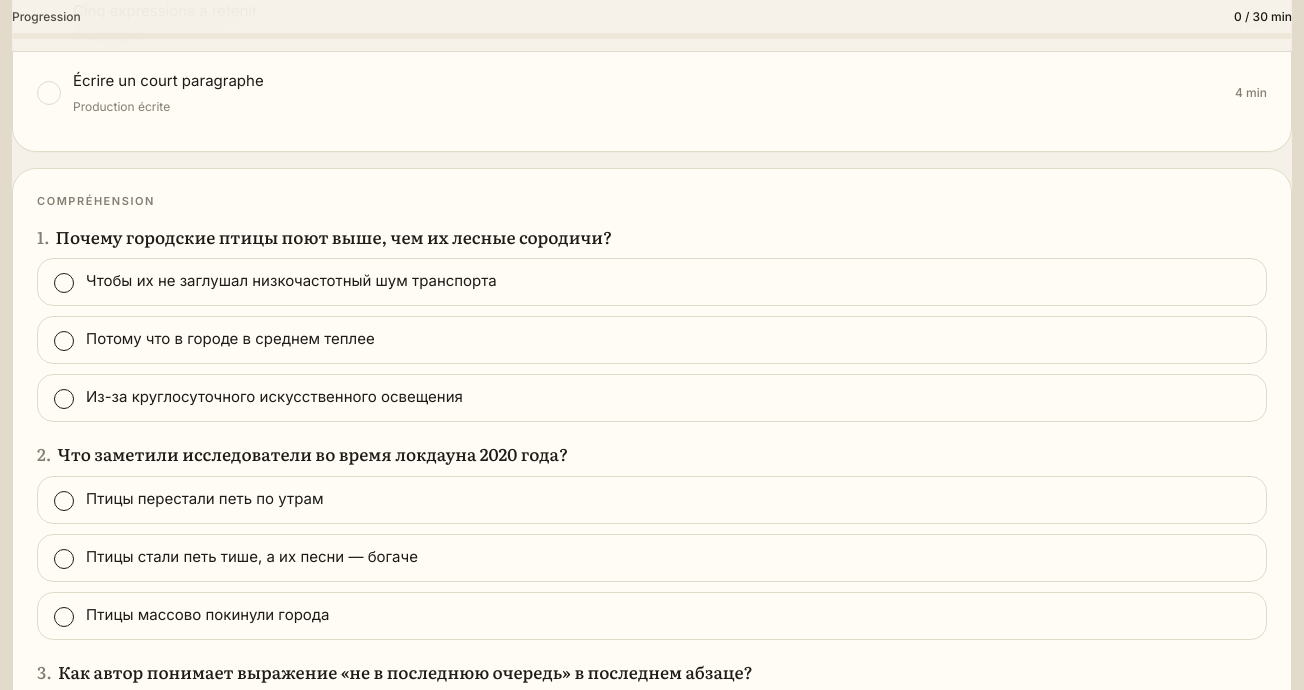
Test: MissionView › gives feedback and a score on the quiz
(page scrolled)
Click the button "Потому что в городе в среднем теплее".
click(230, 339)  # box x1=37 y1=316 x2=1267 y2=364
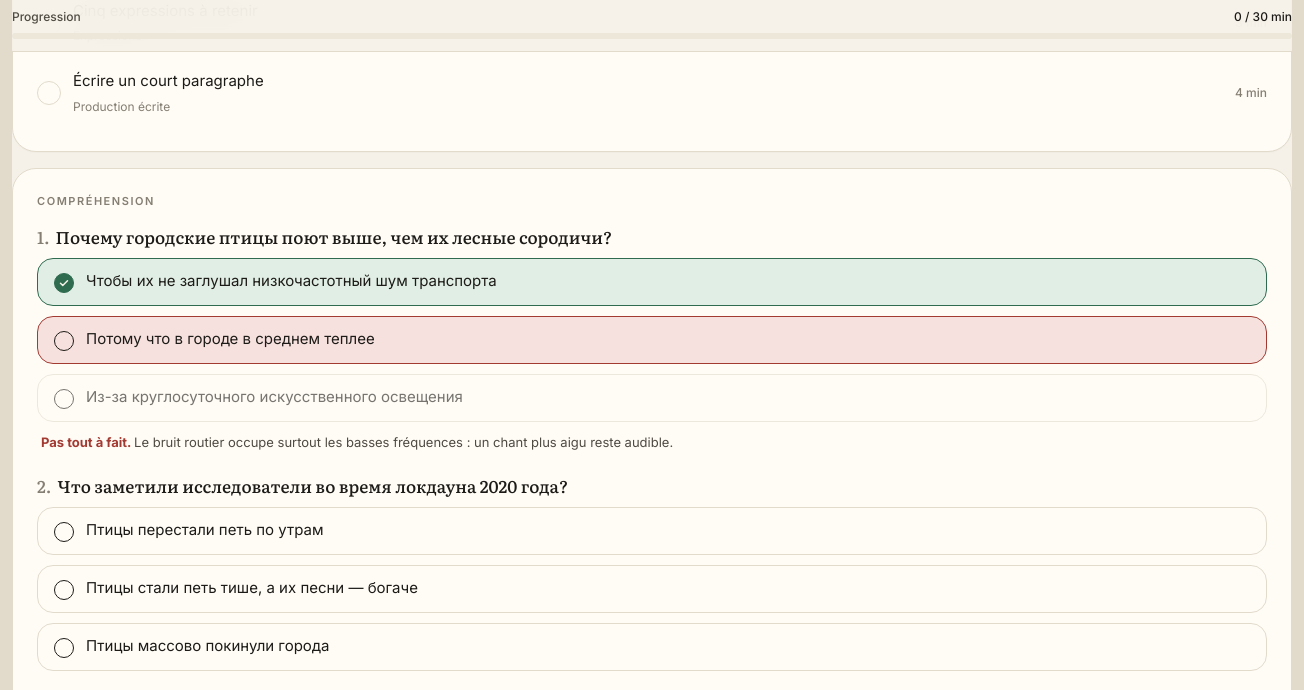
Now the text "Pas tout à fait." is shown, box x1=41 y1=434 x2=134 y2=450
Click the button "Птицы стали петь тише, а их песни — богаче".
click(252, 587)  # box x1=37 y1=565 x2=1267 y2=613
(page scrolled)
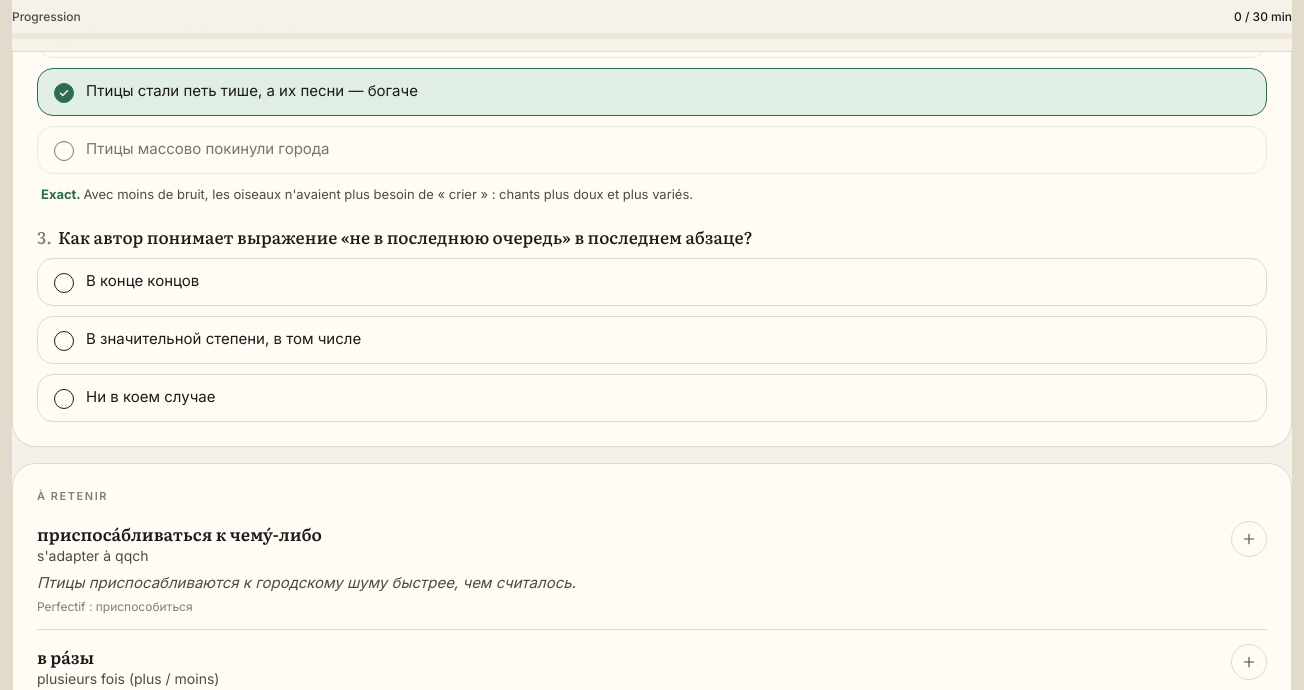
Now the text "Exact." is shown, box x1=41 y1=186 x2=83 y2=202
Click the button "В значительной степени, в том числе".
click(224, 339)  # box x1=37 y1=316 x2=1267 y2=364
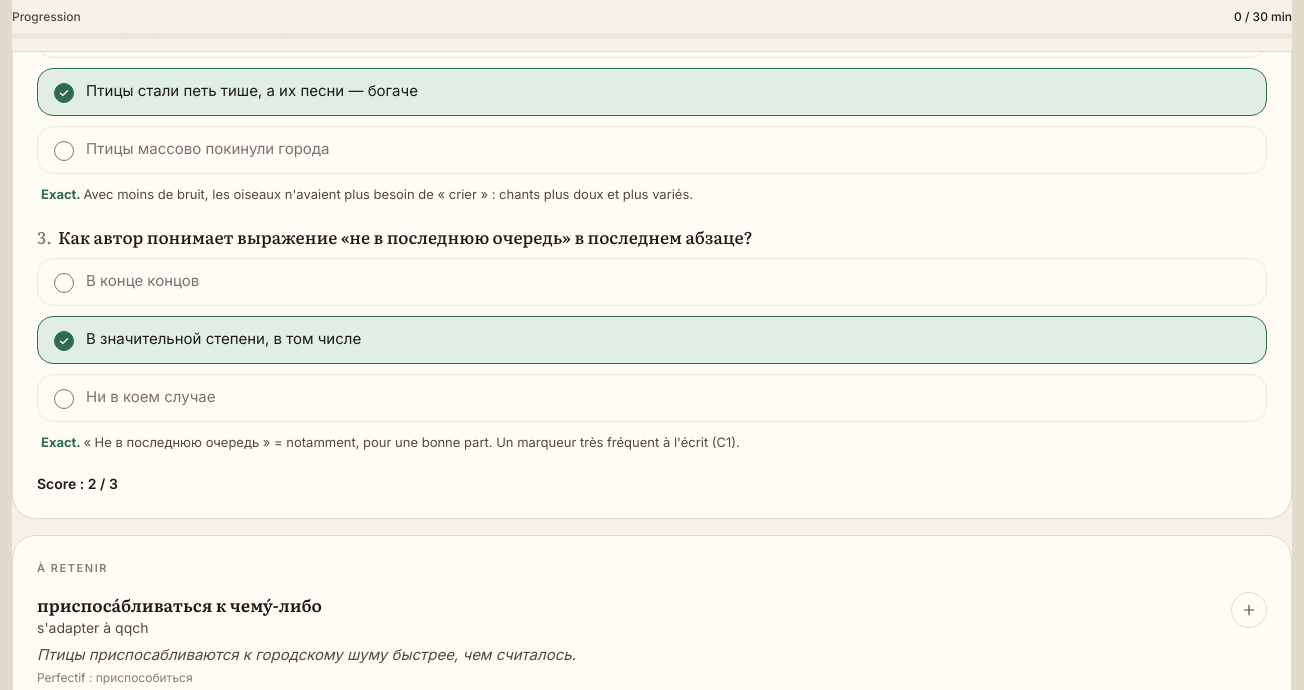
Now the text "Score : 2 / 3" is shown, box x1=37 y1=475 x2=118 y2=492
